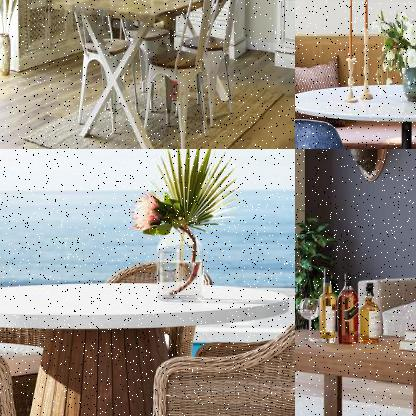table: (0, 278, 293, 415), (47, 0, 251, 148), (295, 316, 415, 415), (295, 79, 415, 148)
